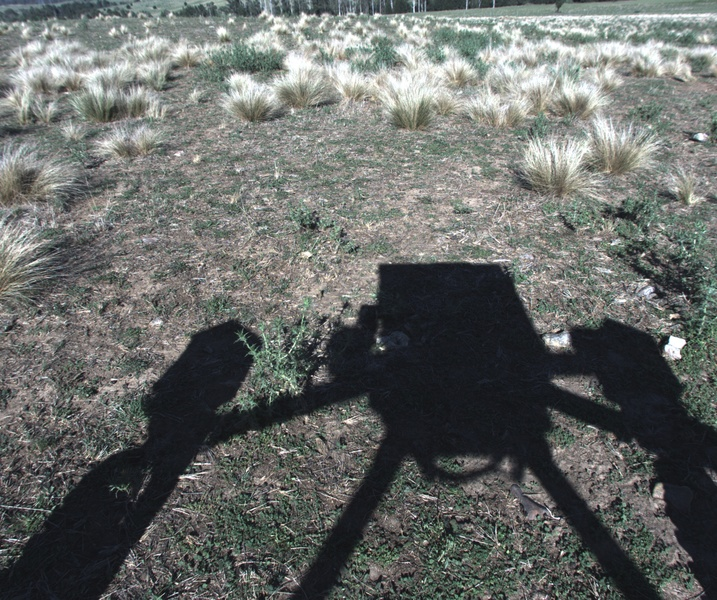st: (1, 224, 59, 302), (1, 153, 67, 212), (580, 117, 646, 171), (377, 83, 444, 133), (520, 140, 577, 193), (541, 77, 606, 114), (280, 73, 332, 119), (471, 80, 522, 126), (105, 127, 165, 163), (224, 84, 273, 125), (78, 79, 125, 120), (430, 60, 472, 93), (8, 85, 43, 124), (338, 76, 374, 110), (123, 91, 160, 123), (629, 47, 662, 82), (168, 39, 200, 69), (667, 56, 697, 82), (35, 97, 59, 125), (65, 124, 85, 143), (213, 24, 230, 45), (105, 24, 120, 38), (119, 21, 130, 34)
